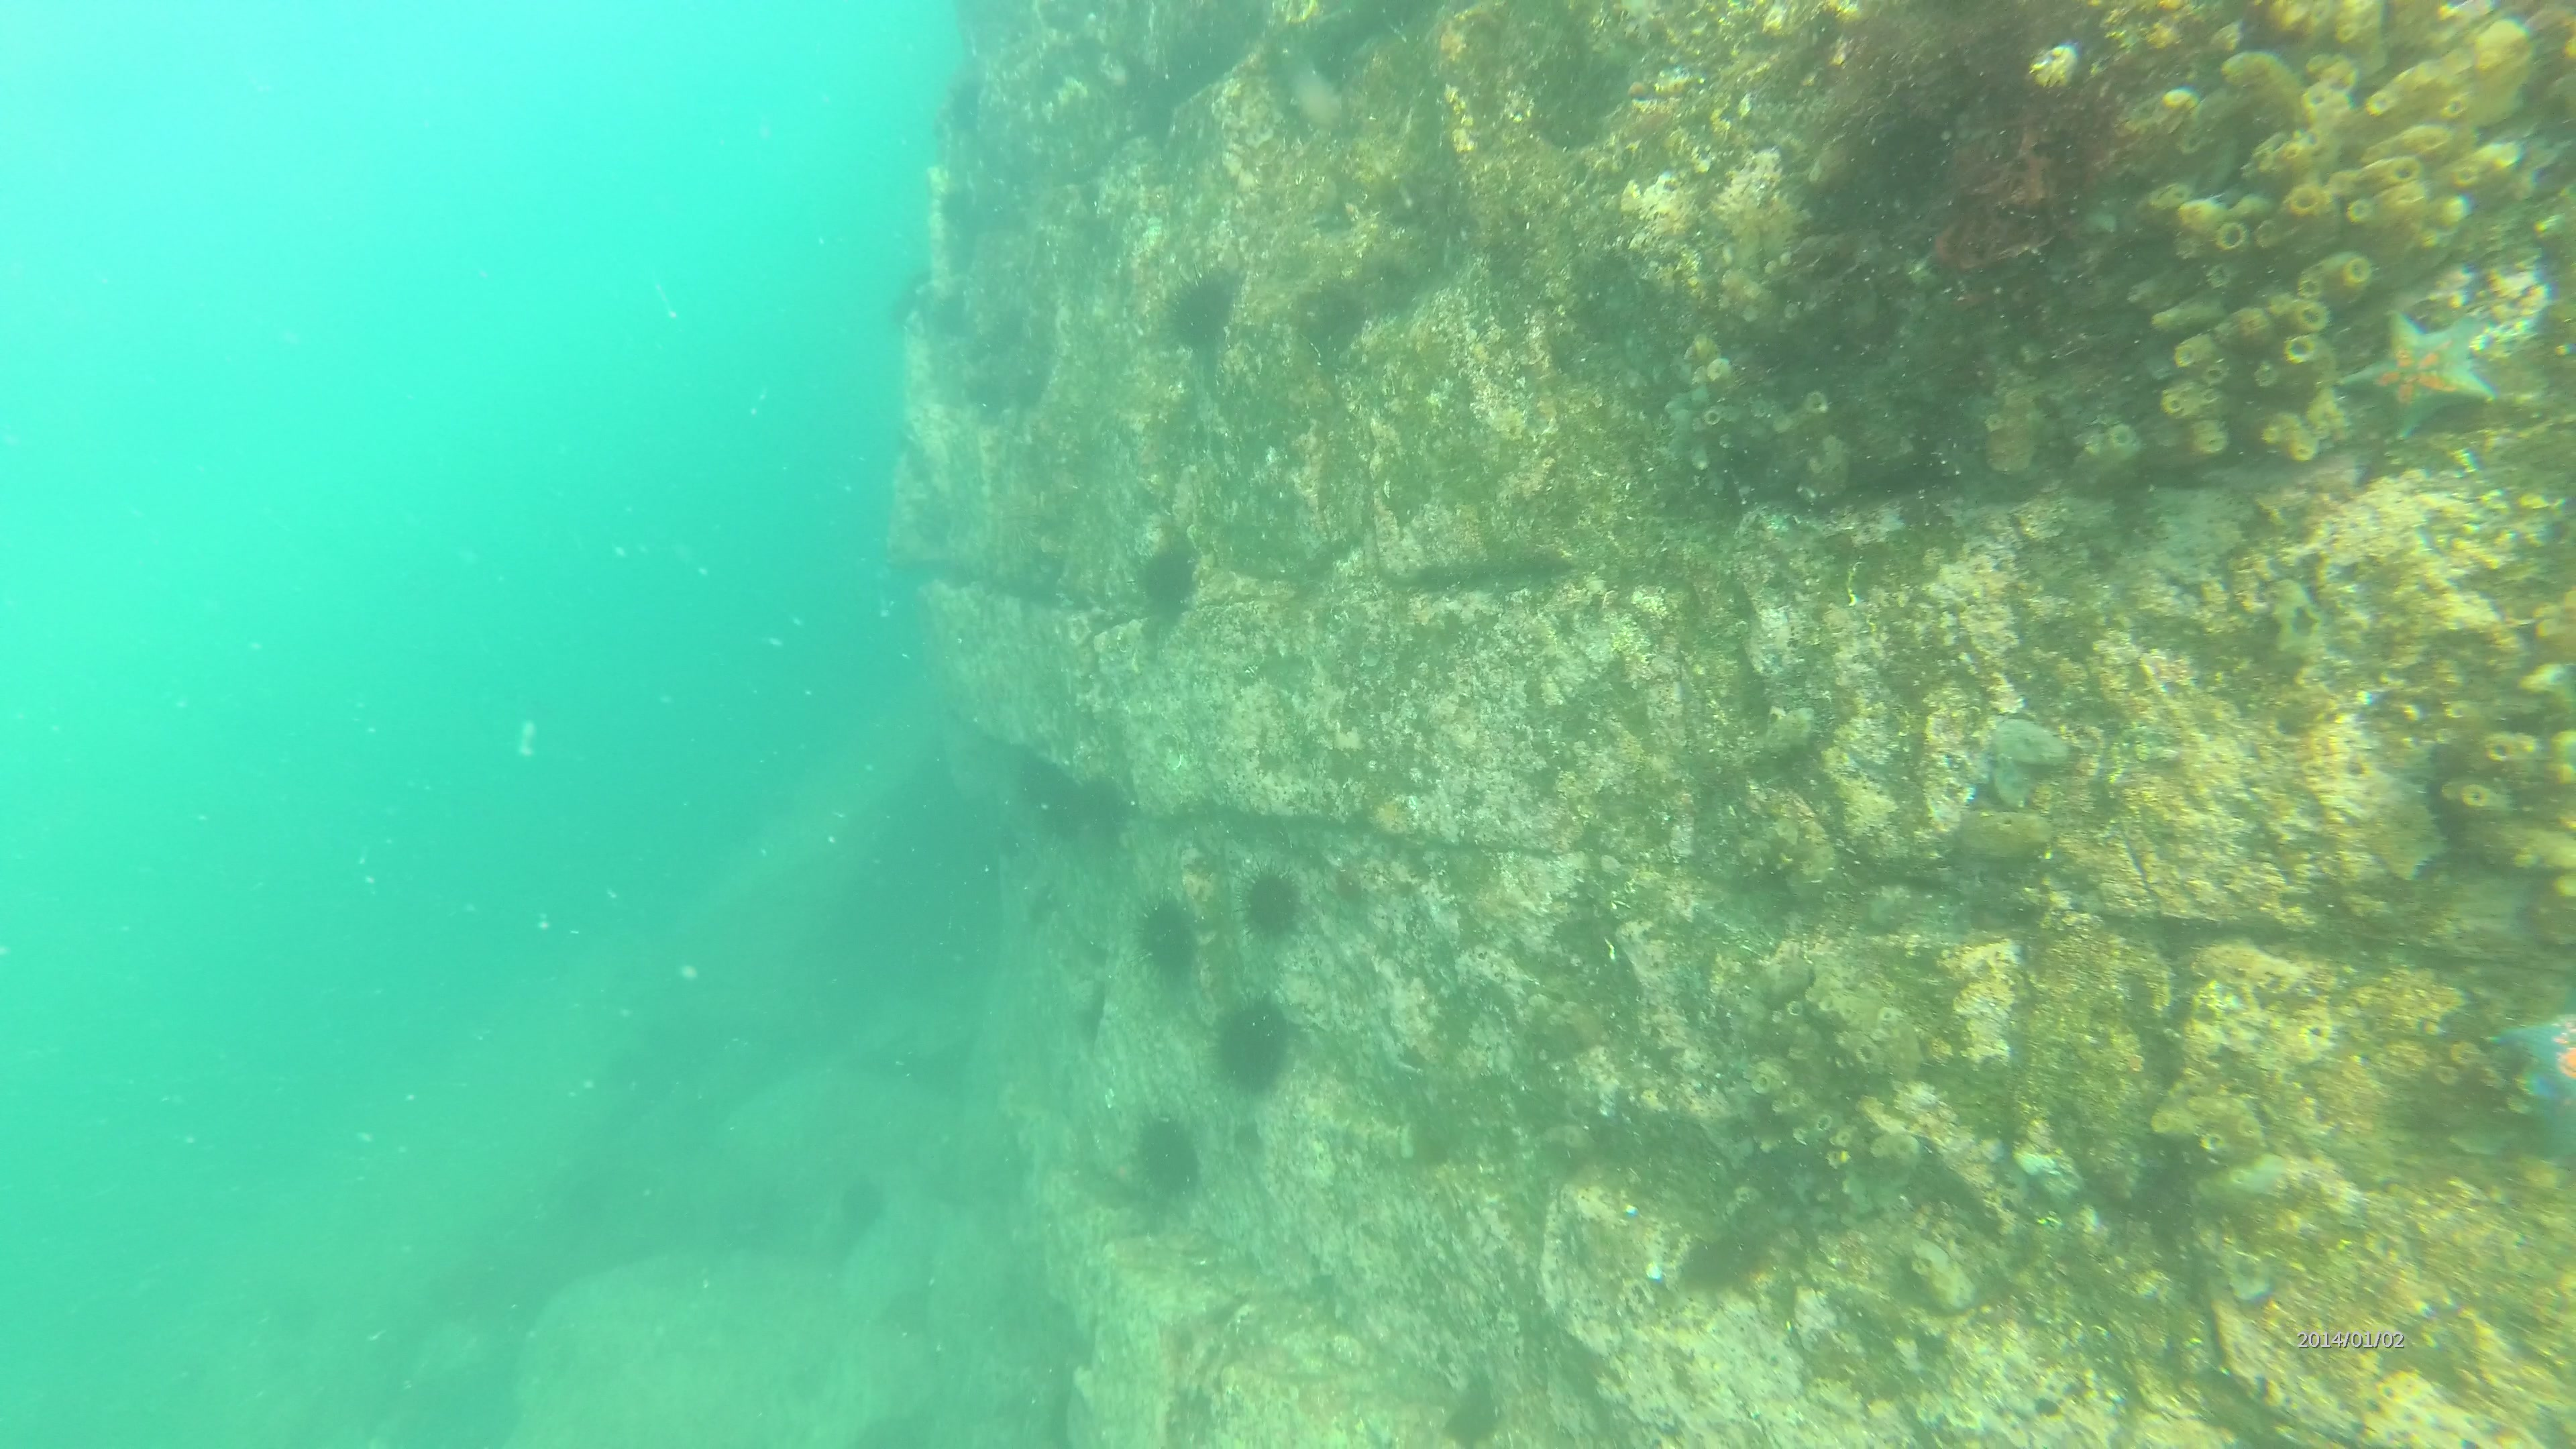echinus: (1214, 996, 1295, 1095), (1141, 1109, 1208, 1196), (1132, 897, 1201, 980), (1169, 271, 1240, 345), (1231, 869, 1300, 939), (1143, 541, 1201, 602)
starfish: (2337, 295, 2502, 435), (2491, 991, 2576, 1116)
